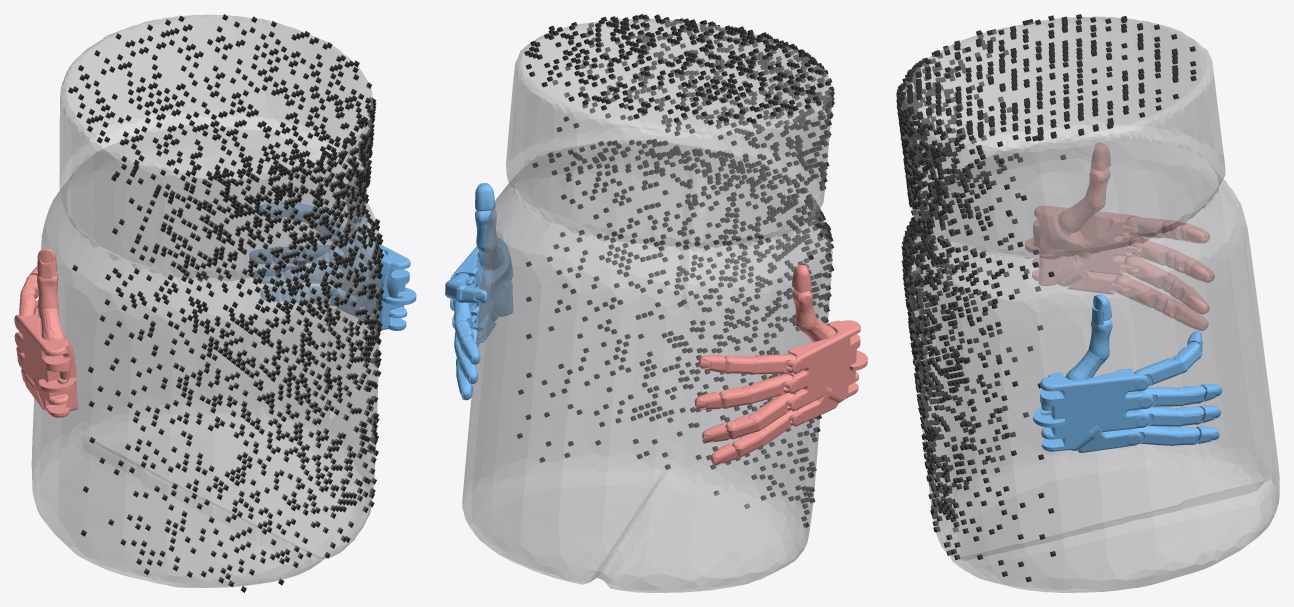
The picture shows the model from 3 angles, left to right: view 1: azimuth 30°, elevation 25°; view 2: azimuth 150°, elevation 25°; view 3: azimuth 270°, elevation 25°; orthographic projection. The views are drawn at different scales.
Visible parts, largest first — view 1: object_mesh_visualization_only, object_pointcloud, right_shadow_hand, left_shadow_hand; view 2: object_mesh_visualization_only, object_pointcloud, left_shadow_hand, right_shadow_hand; view 3: object_mesh_visualization_only, object_pointcloud, left_shadow_hand, right_shadow_hand.
Part boxes in pixels (x1=…): object_mesh_visualization_only: x1=31, y1=14, x2=381, y2=587; object_pointcloud: x1=68, y1=14, x2=384, y2=592; right_shadow_hand: x1=249, y1=169, x2=416, y2=330; left_shadow_hand: x1=14, y1=248, x2=77, y2=417; object_mesh_visualization_only: x1=462, y1=18, x2=832, y2=592; object_pointcloud: x1=517, y1=14, x2=834, y2=527; left_shadow_hand: x1=694, y1=263, x2=867, y2=465; right_shadow_hand: x1=445, y1=183, x2=512, y2=400; object_mesh_visualization_only: x1=899, y1=16, x2=1279, y2=592; object_pointcloud: x1=896, y1=14, x2=1196, y2=582; left_shadow_hand: x1=1025, y1=142, x2=1214, y2=330; right_shadow_hand: x1=1033, y1=294, x2=1222, y2=452.
Size of the model in its own units: 0.4604 by 0.5572 by 0.3998.
